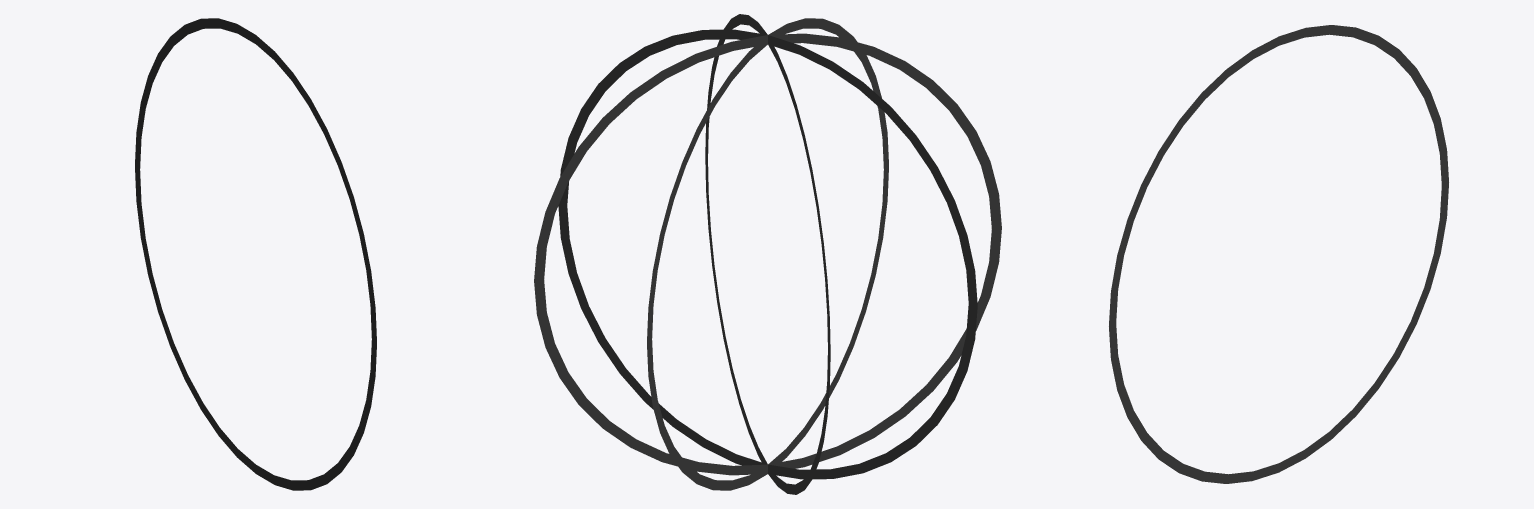
The model's file is 50bd9c625d7a_2_SphereWire01_SphereWire.glb.
3 views of the same model, side by side, from view 1: azimuth 30°, elevation 25°; view 2: azimuth 150°, elevation 25°; view 3: azimuth 270°, elevation 25° (orthographic).
Visible parts, largest first — view 1: 50bd9c625d7a_2_SphereWire01_SphereWire.obj; view 2: 50bd9c625d7a_2_SphereWire01_SphereWire.obj; view 3: 50bd9c625d7a_2_SphereWire01_SphereWire.obj.
Boxes of the visible parts, x1,y1,x2,y2 form: 50bd9c625d7a_2_SphereWire01_SphereWire.obj: (135, 18, 376, 490); 50bd9c625d7a_2_SphereWire01_SphereWire.obj: (534, 14, 1001, 494); 50bd9c625d7a_2_SphereWire01_SphereWire.obj: (1109, 25, 1448, 483).
Size of the model in its own units: 1.02 by 1.02 by 1.02.
Materials: 1 (1 with a texture image).
